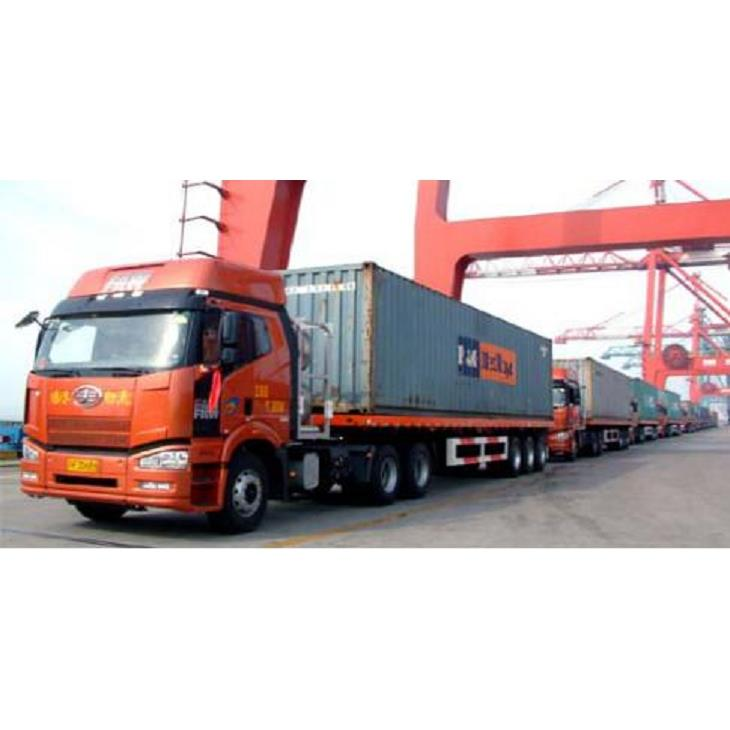truck: (17, 254, 549, 531)
